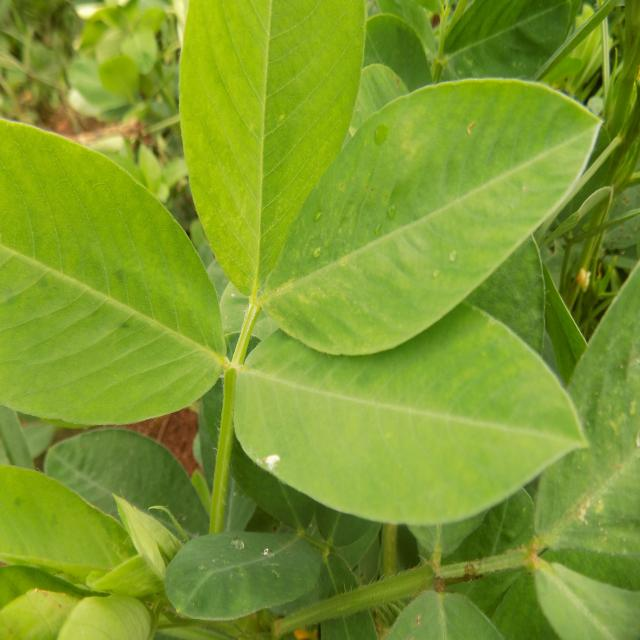Ground nut_healthy: (261, 66, 599, 354), (0, 106, 221, 434), (240, 327, 590, 524), (174, 0, 351, 296)
